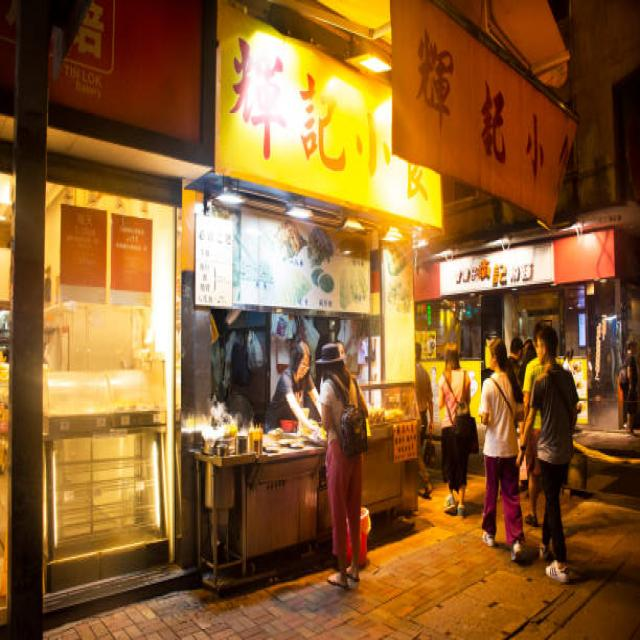Emperan: (162, 102, 432, 614)
